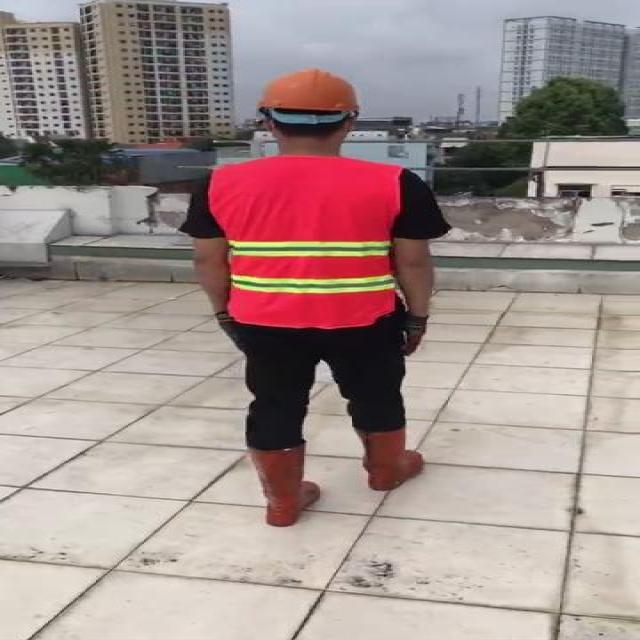boots: (244, 447, 322, 526), (355, 428, 425, 493)
hand_glove: (400, 310, 427, 356)
head_helmet: (254, 65, 364, 116)
person: (175, 70, 470, 536)
vest: (212, 160, 400, 328)
